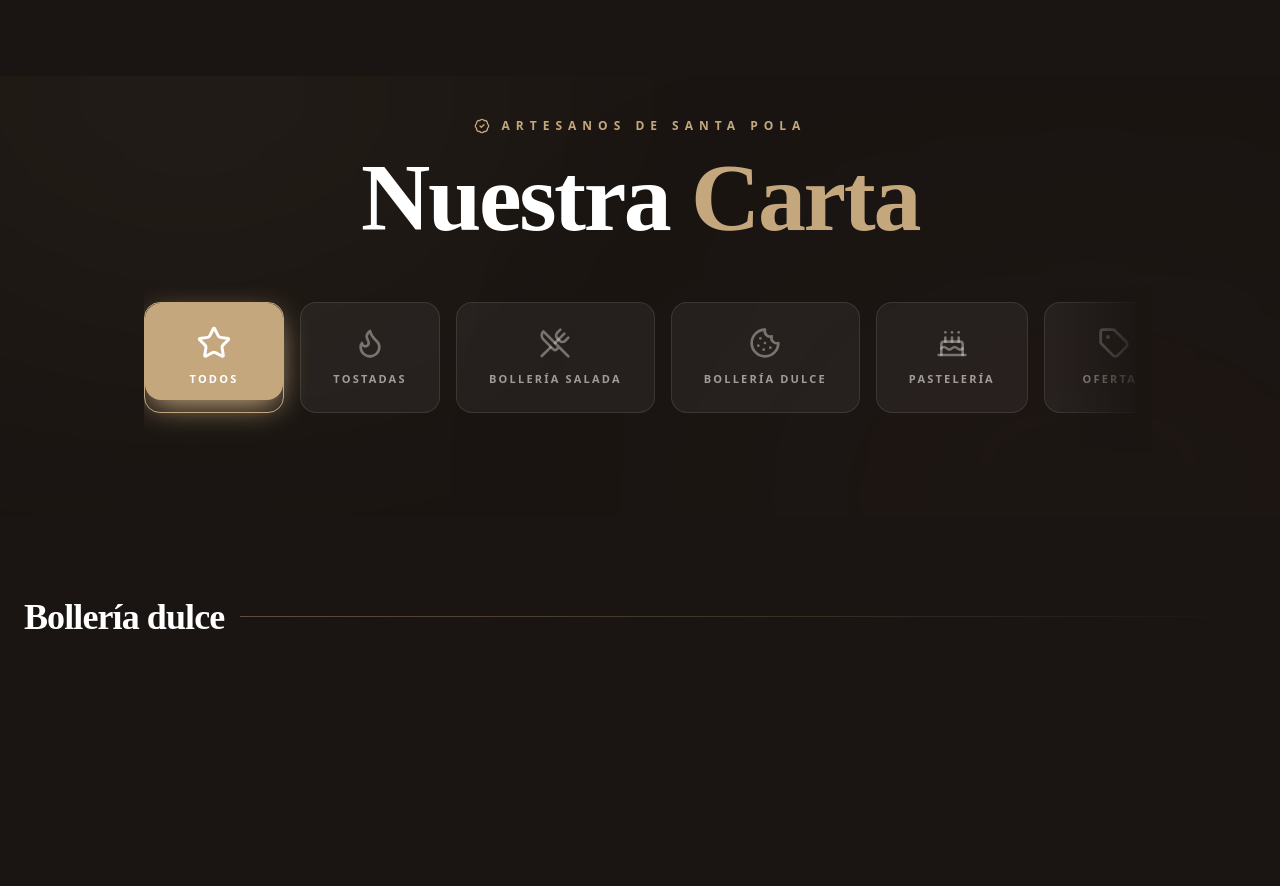
Scenario: Menu Integration › corrige el orden de la API en Todos y mantiene el filtro por categoria cuando falta sort_order
The width and height of the screenshot is (1280, 886).
Press the mouse on the button "Bollería dulce" at point(765, 357), box [671,302,860,412]
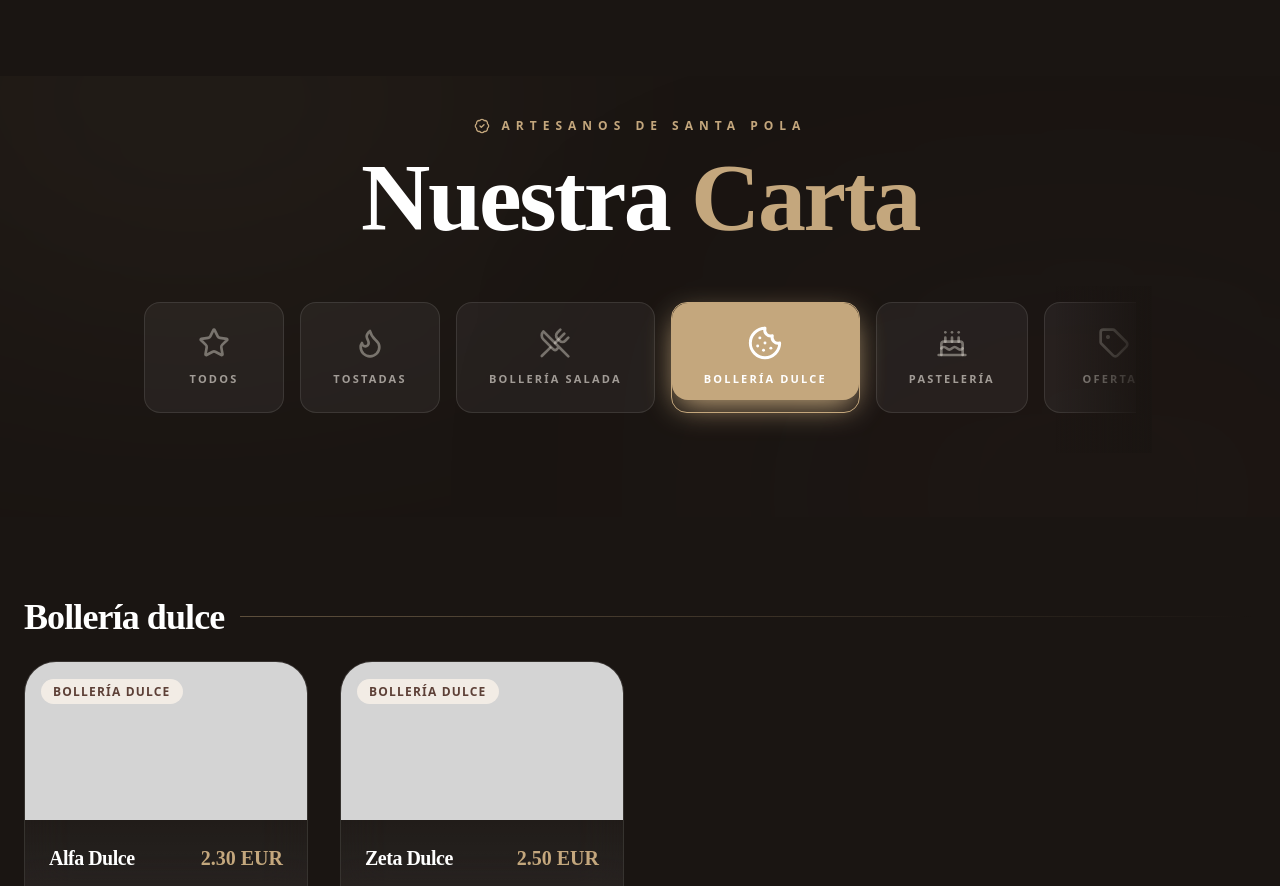
Expected: the heading "Alfa Dulce" is shown, [49,844,134,872]
Expected: the heading "Zeta Dulce" is shown, [365,844,453,872]
